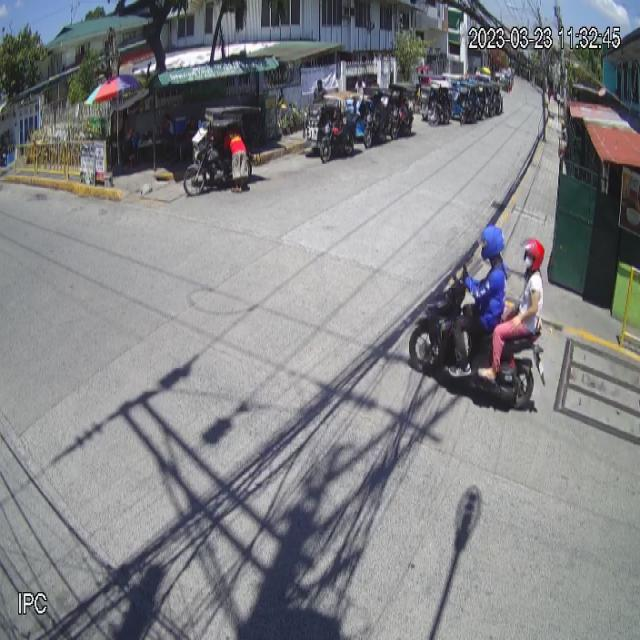Motorcycle: (408, 268, 546, 409)
